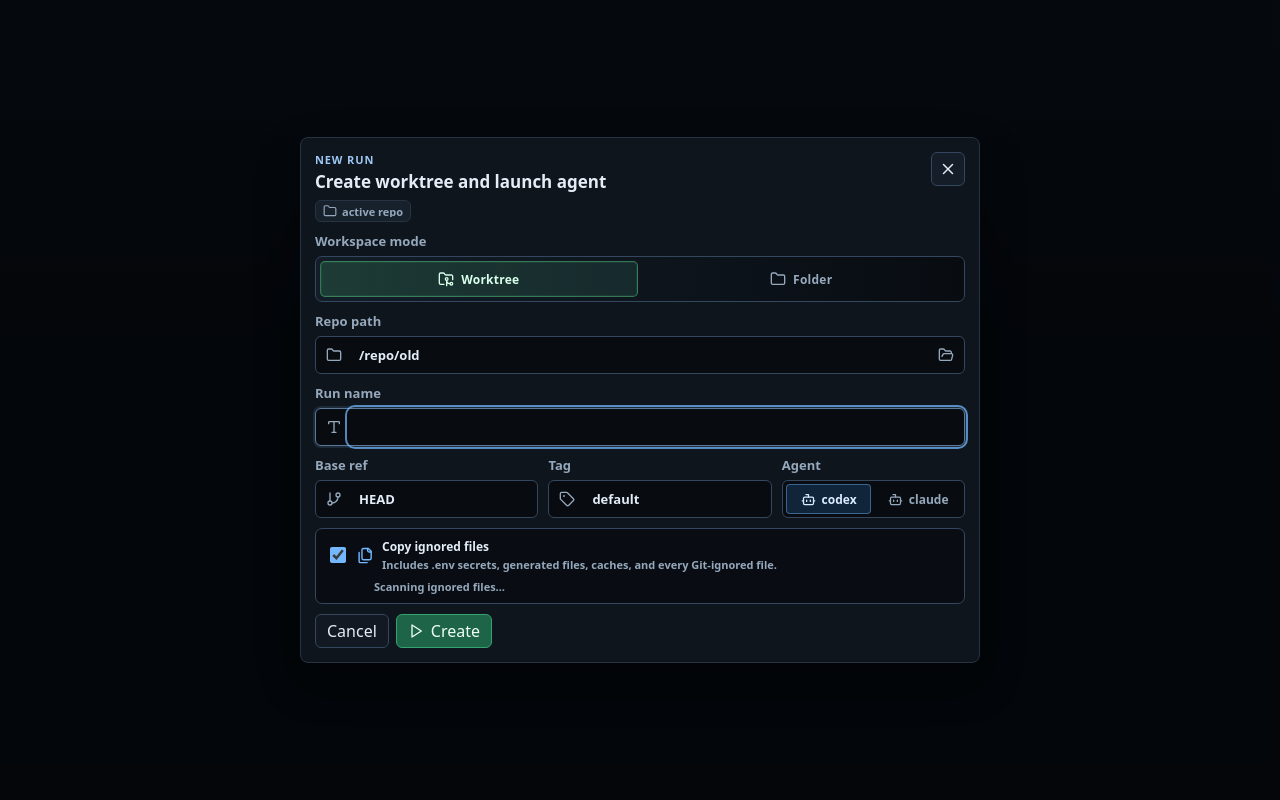
Test: CreateRunModal › does not show a stale preview after the repository path changes
Clear the dropdown labelled "Repo path": (636, 355) 349,337 -> 924,373
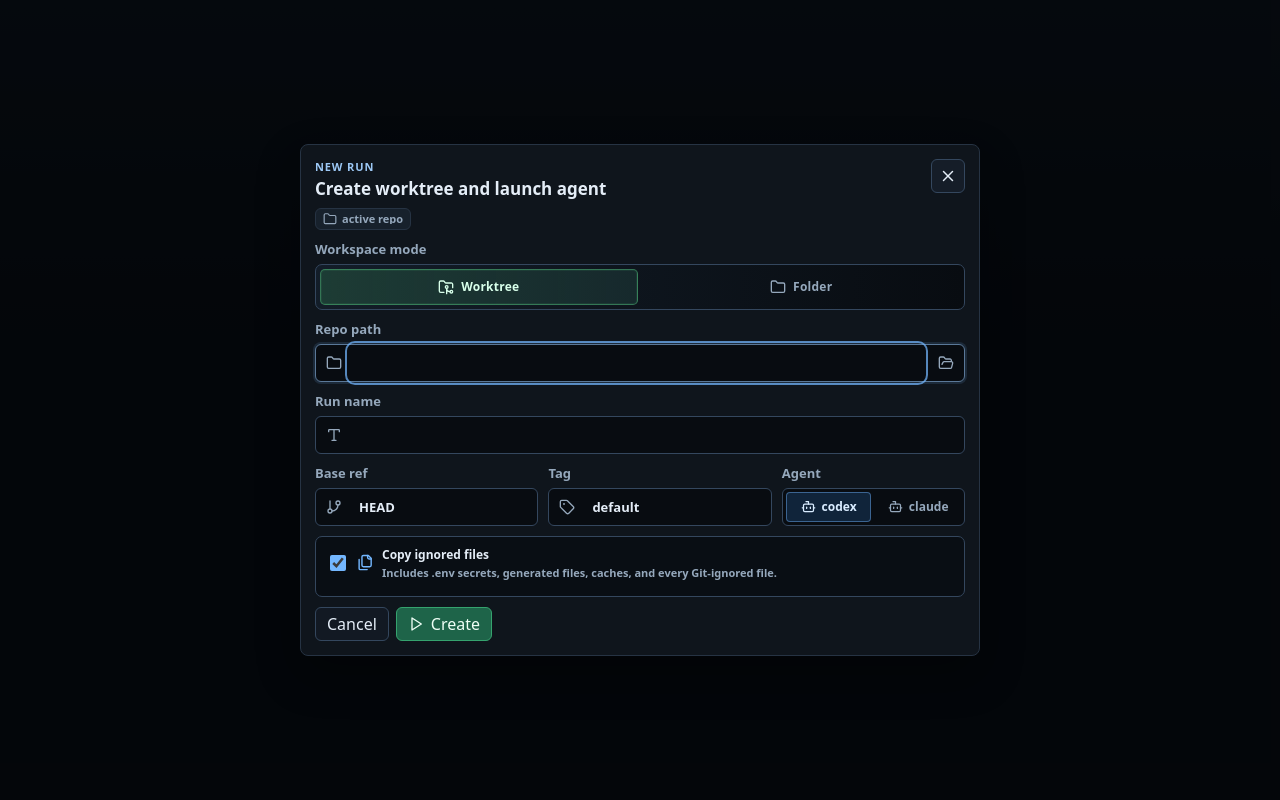
In the dropdown labelled "Repo path": (636, 363) 349,345 -> 924,381, type "/repo/new"
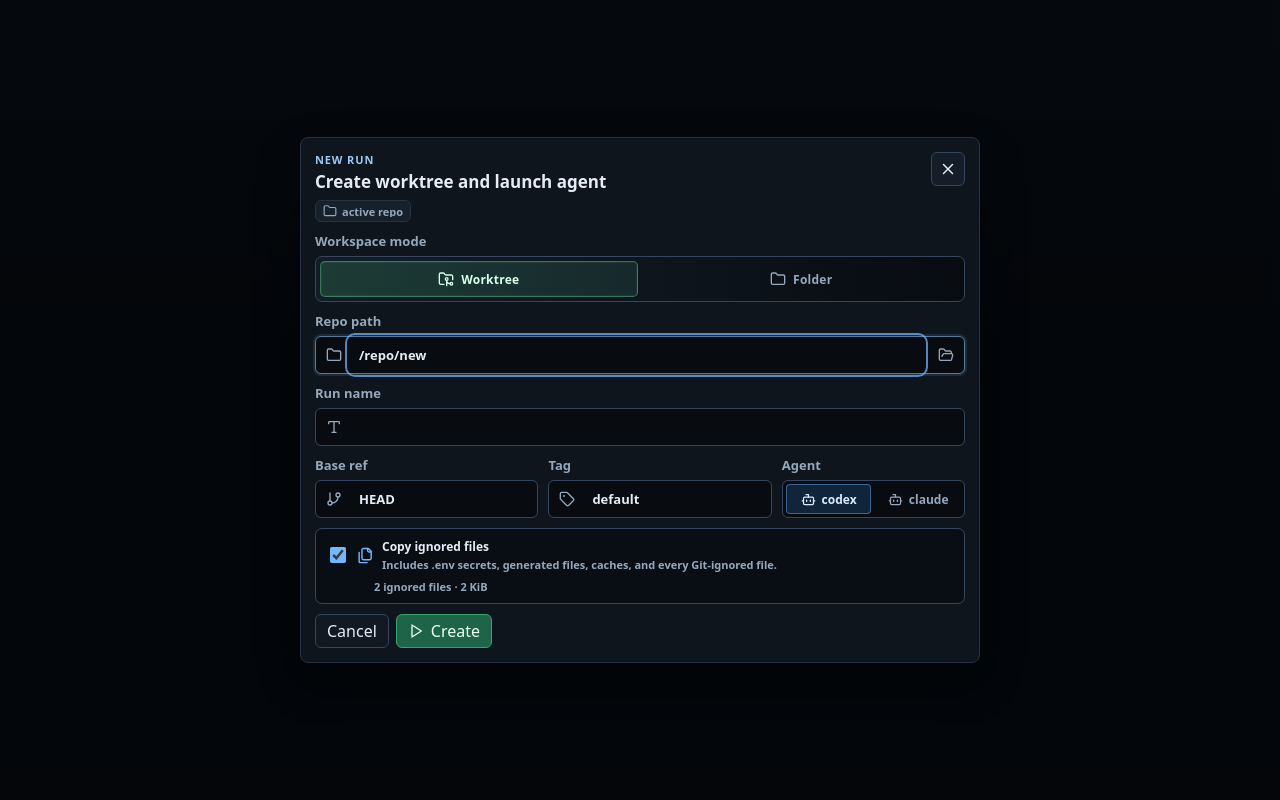
Check: the text "2 ignored files · 2 KiB" is shown, box 374,579 -> 488,594
